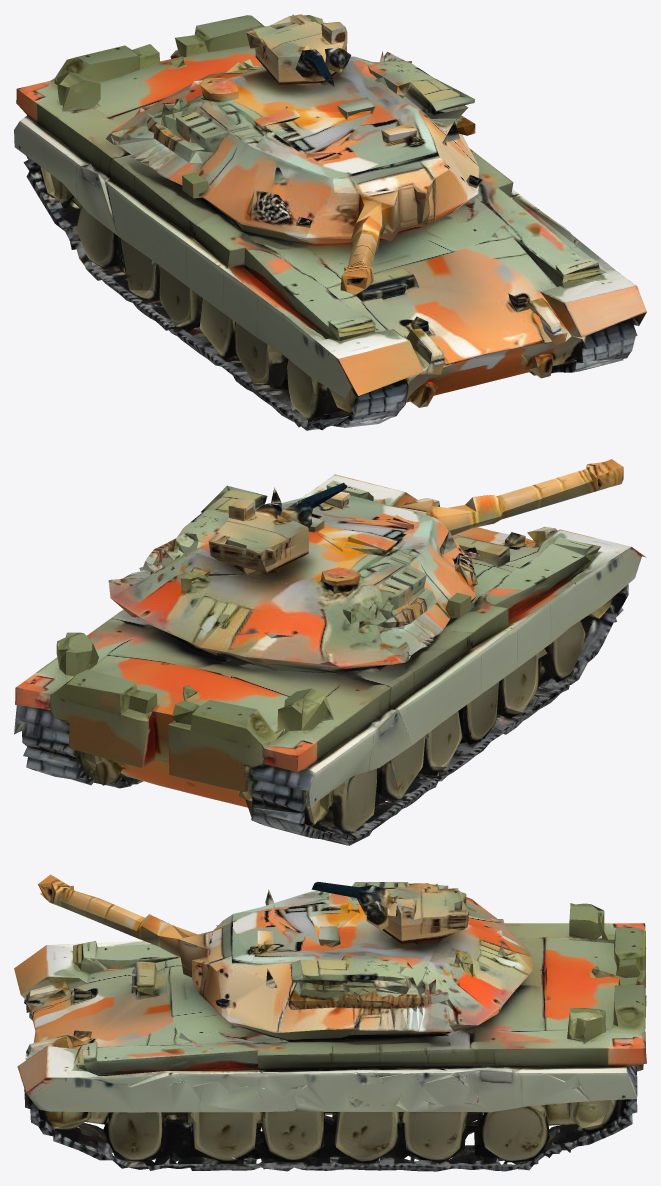
The model's file is tank_type10.glb.
3 renders of one model, top to bottom at view 1: azimuth 30°, elevation 25°; view 2: azimuth 150°, elevation 25°; view 3: azimuth 270°, elevation 25°, orthographic. The views are drawn at different scales.
Visible parts, largest first — view 1: tank_type10; view 2: tank_type10; view 3: tank_type10.
Part boxes in pixels (left/top/right/bottom): tank_type10: left=14, top=14, right=646, bottom=430; tank_type10: left=14, top=459, right=646, bottom=845; tank_type10: left=14, top=874, right=646, bottom=1171.
Size of the model in its own units: 4.74 by 3.79 by 9.4.
1 material, 1 textured.
